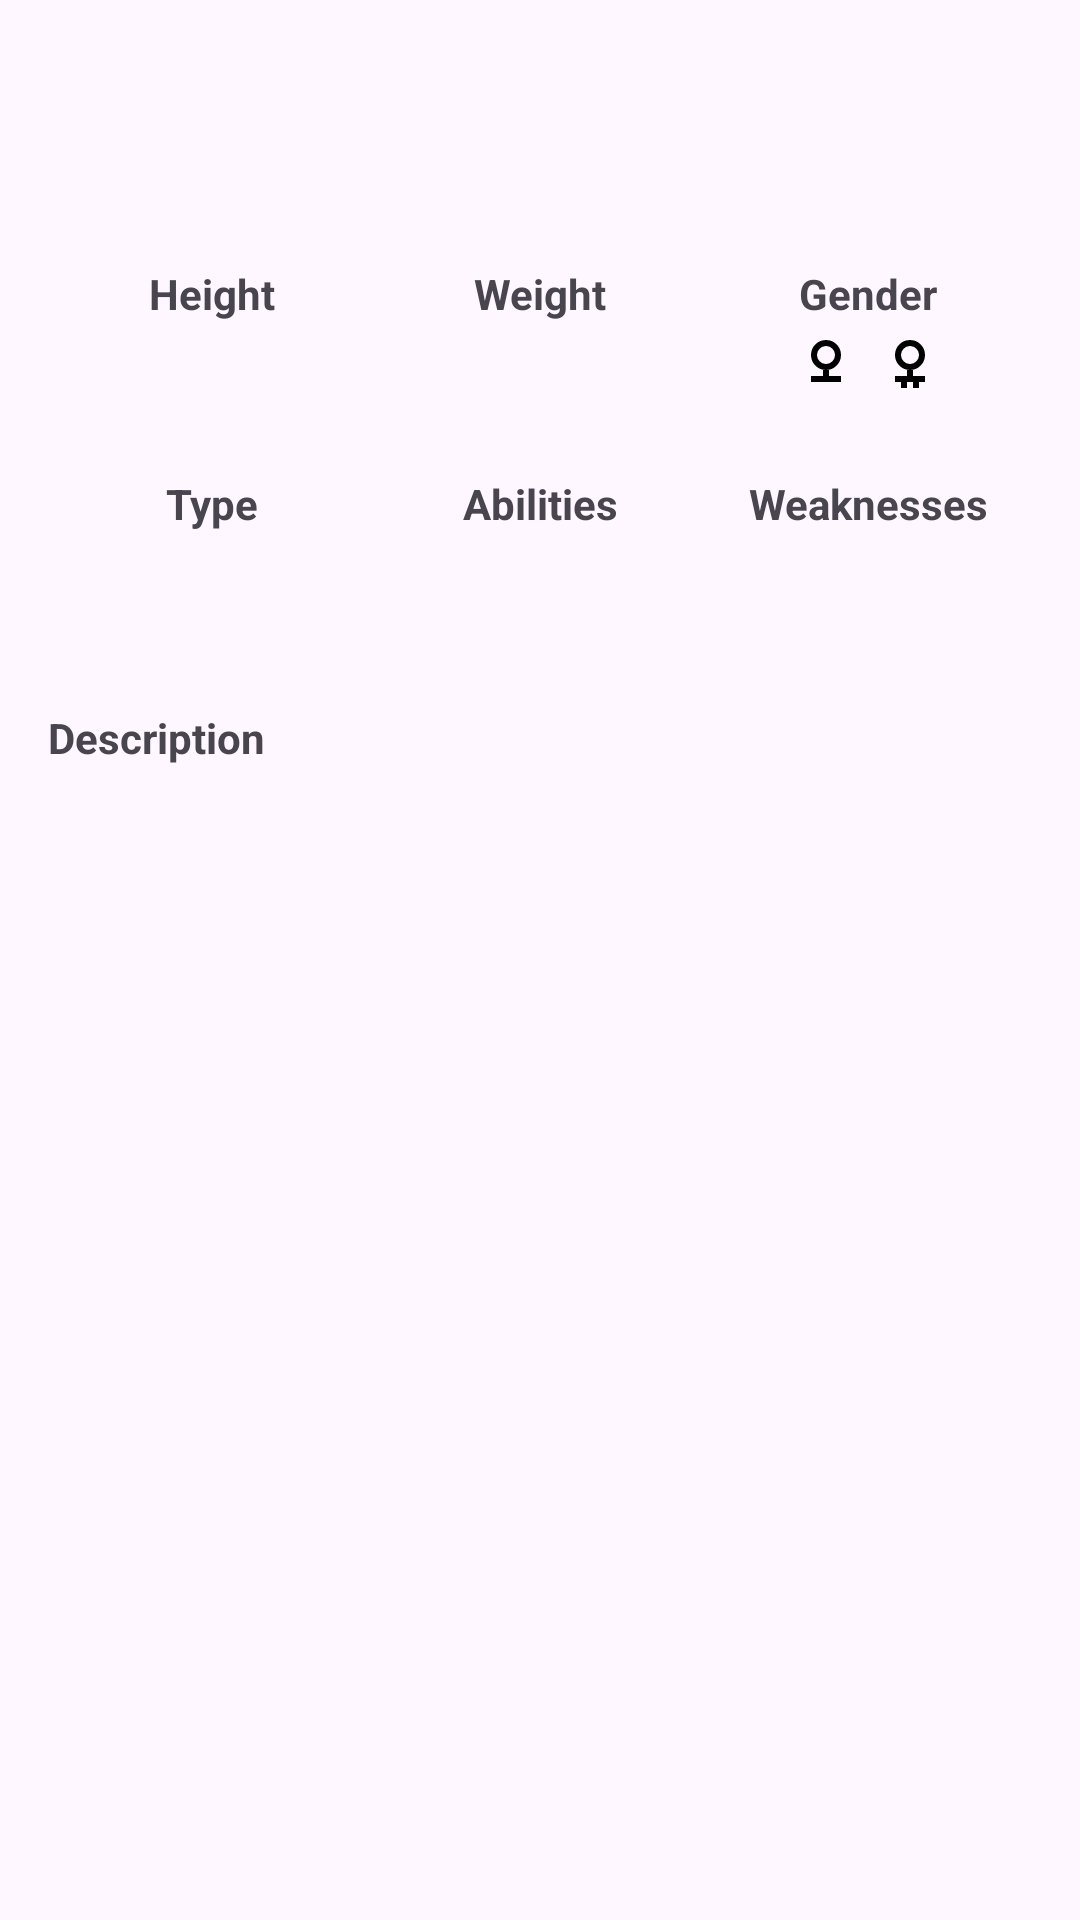

Icons on this 1080px x 1920px Android screen, each with its box as (x1, y1, x2, y2):
female: (895, 340, 925, 388)
